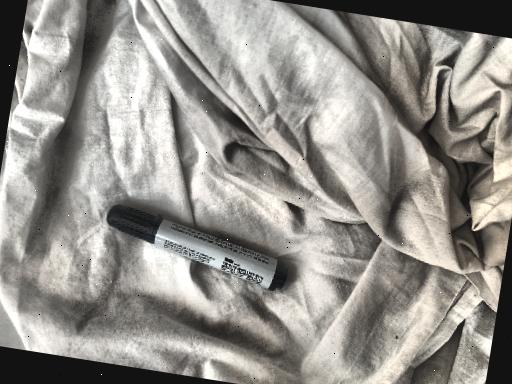marcador negro: (106, 204, 288, 290)
